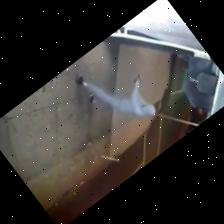person: (76, 74, 155, 116)
